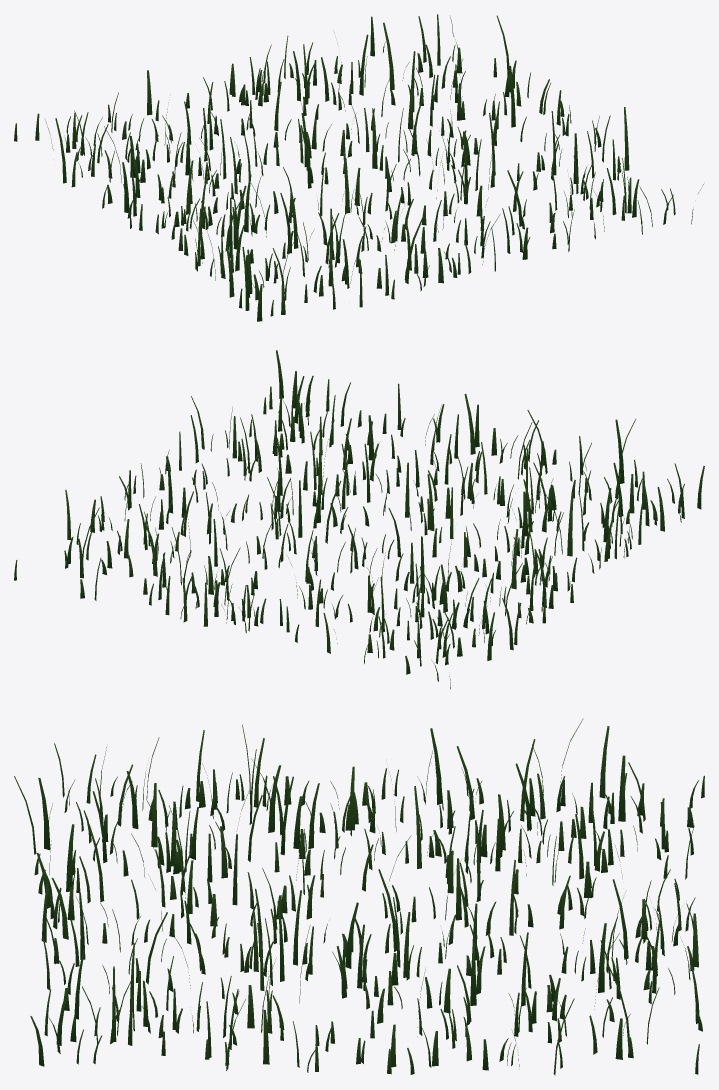
File: Turf_Shade_v1.glb
3 renders of one model, top to bottom at view 1: azimuth 30°, elevation 25°; view 2: azimuth 150°, elevation 25°; view 3: azimuth 270°, elevation 25°, orthographic. The views are drawn at different scales.
Visible parts, largest first — view 1: Turf_Shade_v1; view 2: Turf_Shade_v1; view 3: Turf_Shade_v1.
Boxes of the visible parts, bbox=[...] form: Turf_Shade_v1: bbox=[14, 14, 703, 321]; Turf_Shade_v1: bbox=[14, 350, 704, 689]; Turf_Shade_v1: bbox=[14, 718, 704, 1075].
Bounding box in the file's own units: 1.22 × 0.1578 × 1.26.
